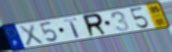3: (111, 11, 130, 32)
5: (128, 6, 150, 30), (38, 21, 59, 43)
R: (82, 12, 110, 38)
T: (63, 17, 82, 39)
X: (17, 23, 45, 47)
